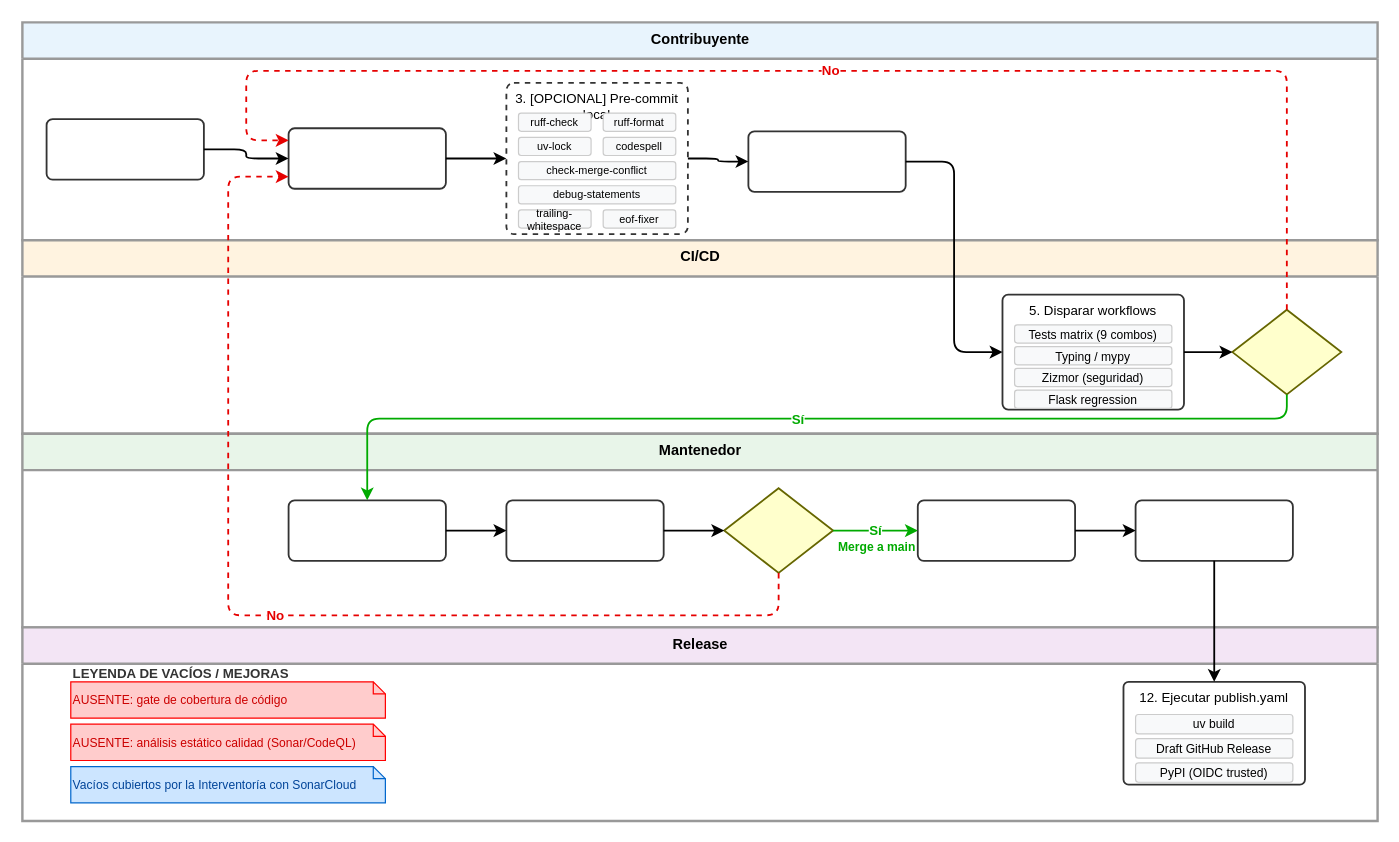
Some shapes in this 1399 by 842 pixel diagram are drawn without their labels. Here are the shapes that lost their labels. From the top down, the centre of each, then its label:
At point 124,149: "1. Hacer fork del repo".
At point 366,158: "2. Desarrollar fix/feature en rama".
At point 826,161: "4. Abrir Pull Request".
At point 1286,351: "6. ¿Todos los checks pasan?".
At point 366,530: "7. Recibe PR con checks verdes".
At point 584,530: "8. Review humano del código".
At point 778,530: "9. ¿Review aprobado?".
At point 995,530: "10. Verificar / Actualizar CHANGES.md".
At point 1213,530: "11. Crear tag de versión".
